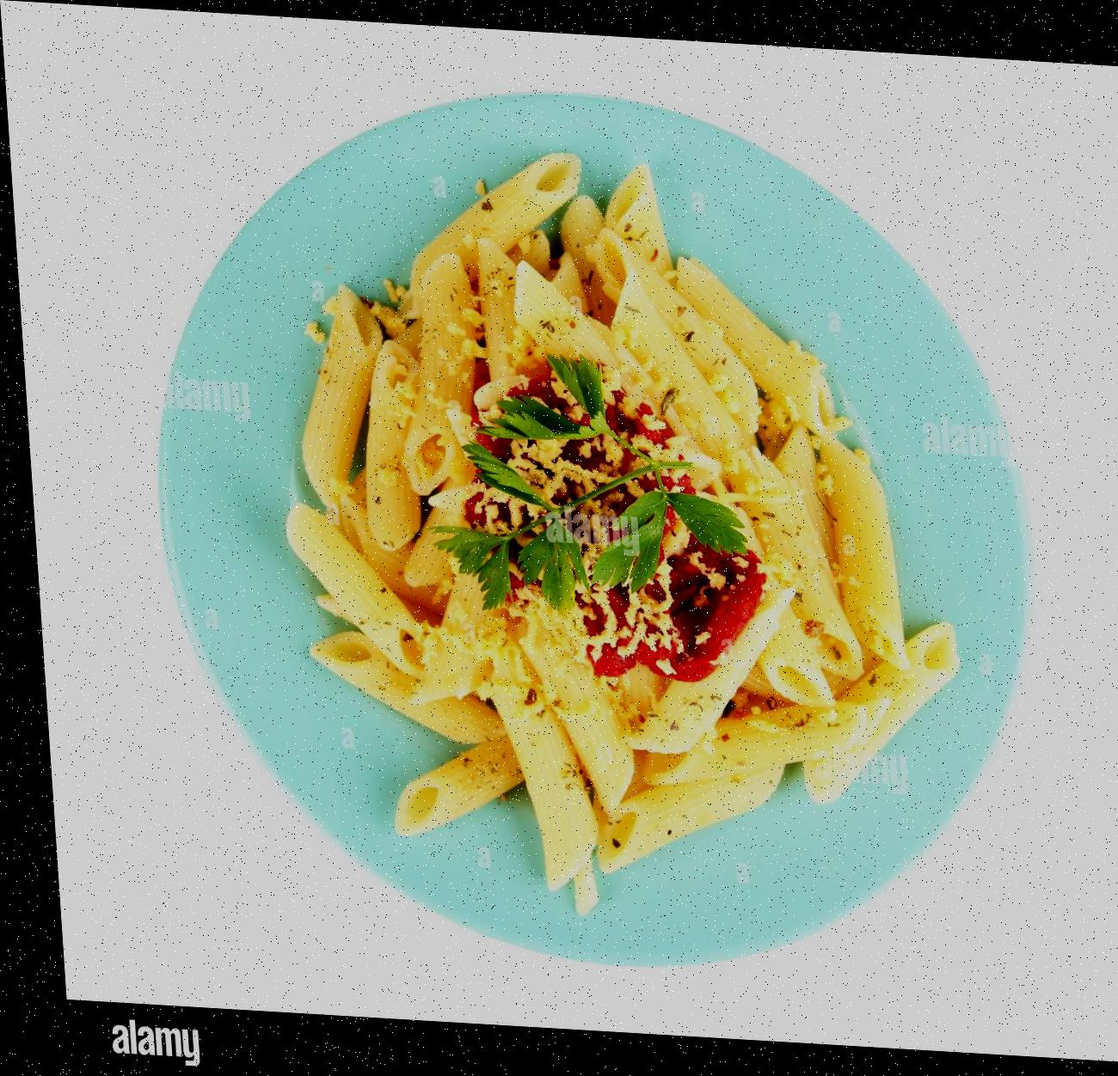pasta: (286, 154, 957, 914)
